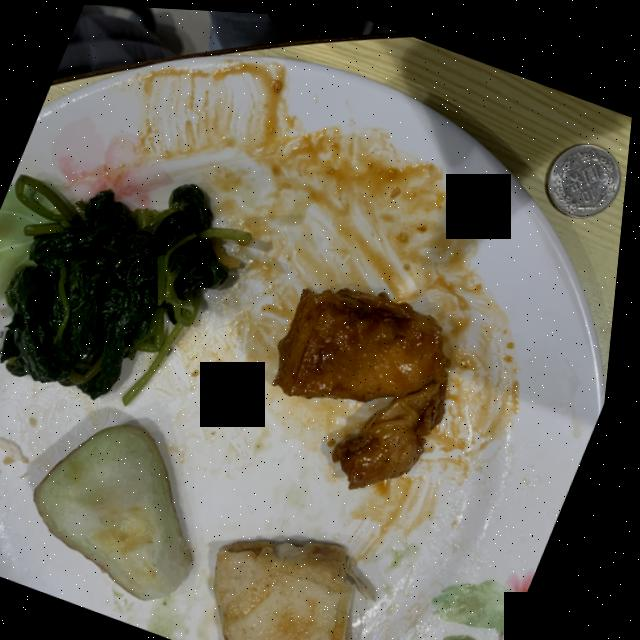coin: (548, 135, 624, 211)
creamy tofu: (280, 283, 454, 484)
creamy tofu -without sauce-: (225, 536, 364, 640)
sweet potato leaves: (6, 173, 256, 401)
